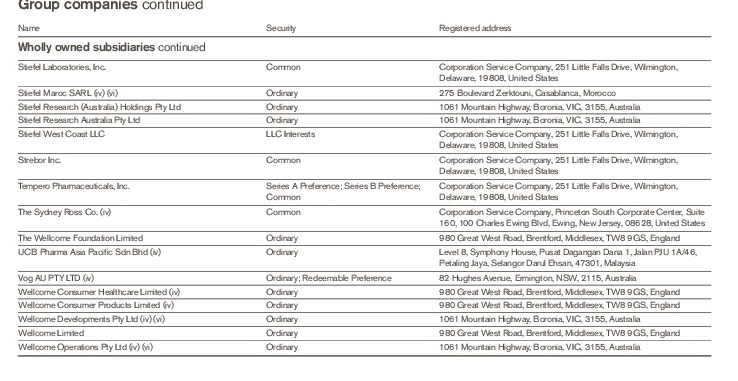table: (0, 0, 738, 381)
